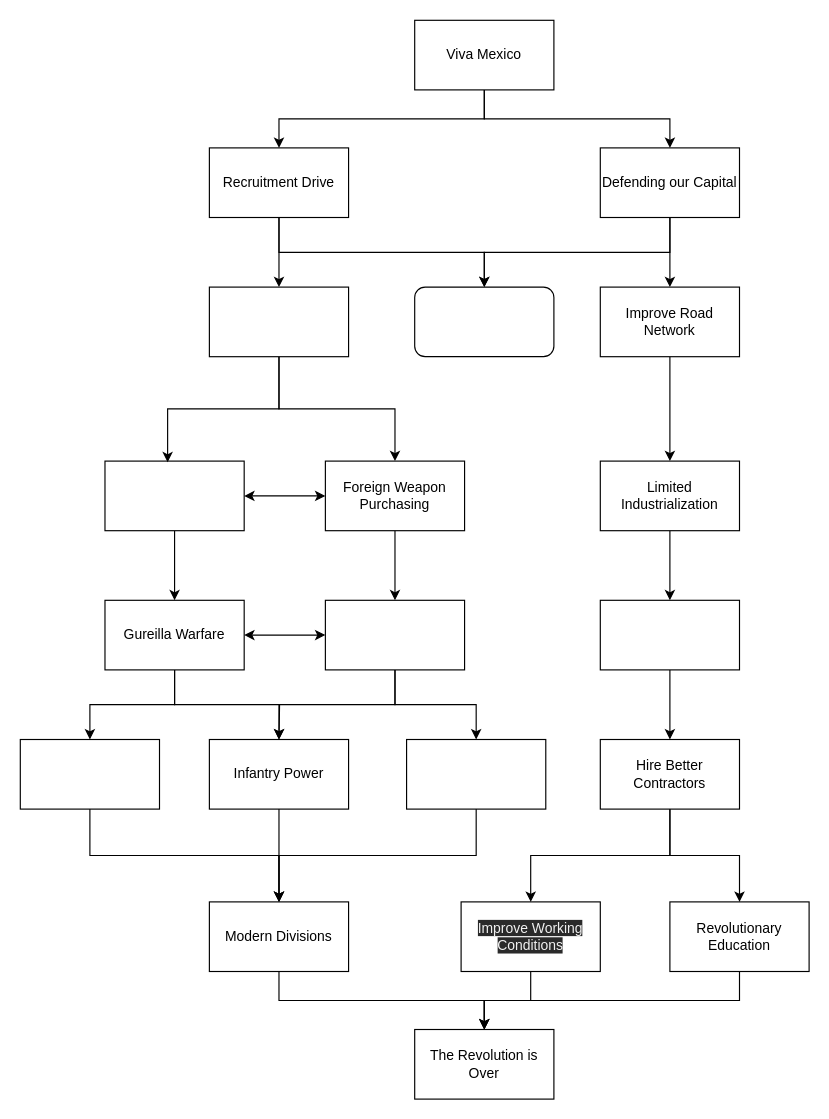
Some shapes in this 829 by 1119 pixel diagram are drawn without their labels. Here are the shapes that lost their labels. From the top down, the centre of each, then its label:
At point 278,321: "Oraganize our Forces".
At point 484,321: "Revolutionary Zeal".
At point 174,495: "Local Arms Production".
At point 394,634: "Coventional Warfare".
At point 669,634: "Quest for Resources".
At point 89,773: "Cavalry Tactics".
At point 475,773: "Role of Artillery".
